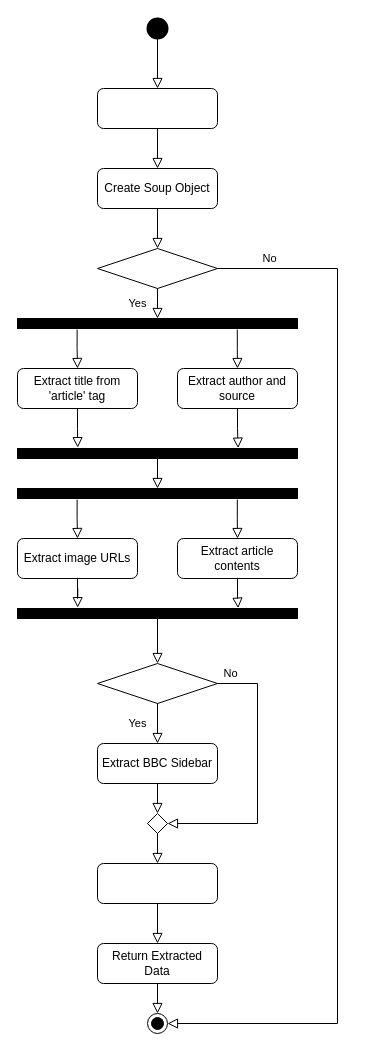
Image size: 365x1051. Some labels were removed from this diagram. Here are the shapes that lost their labels. From the top down, the centre of each, then its label:
At (157,108): "Input HTML Content".
At (157,268): "Found 'article' tag".
At (157,683): "Is news source BBC?".
At (157,883): "Compile Results".
